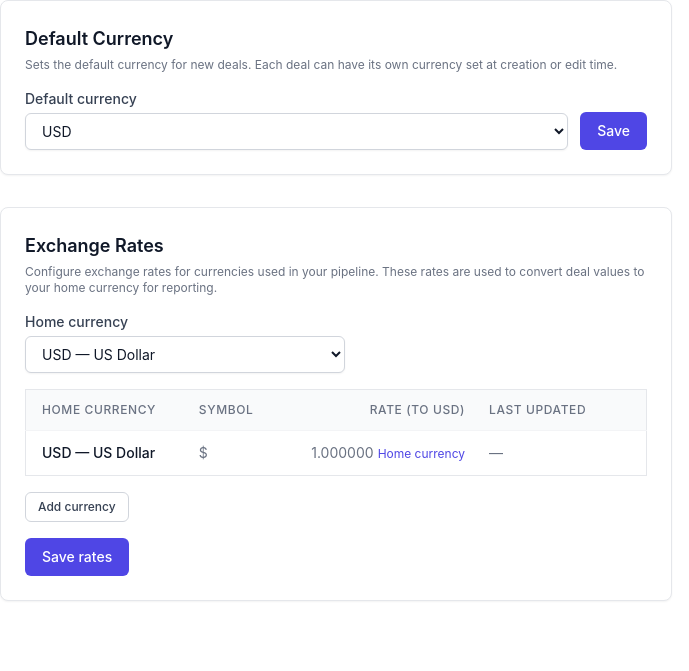
CurrencySettings — exchange rates › opens add currency form when Add button is clicked
Click the button with test id "exchange-rate-add-button" at (77, 507), box [25,492,129,522]
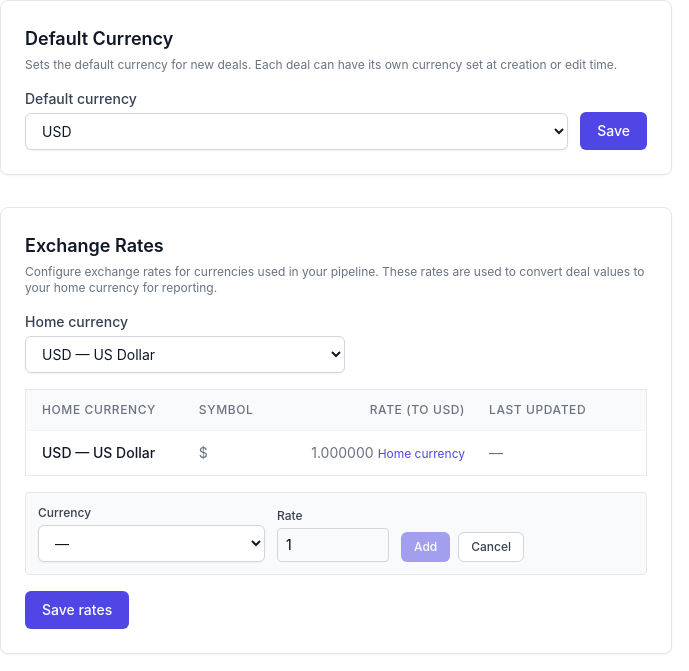
Check: the element with test id "add-currency-form" is shown, box [25,492,647,575]
Check: the dropdown with test id "add-currency-code-select" is shown, box [38,525,265,562]
